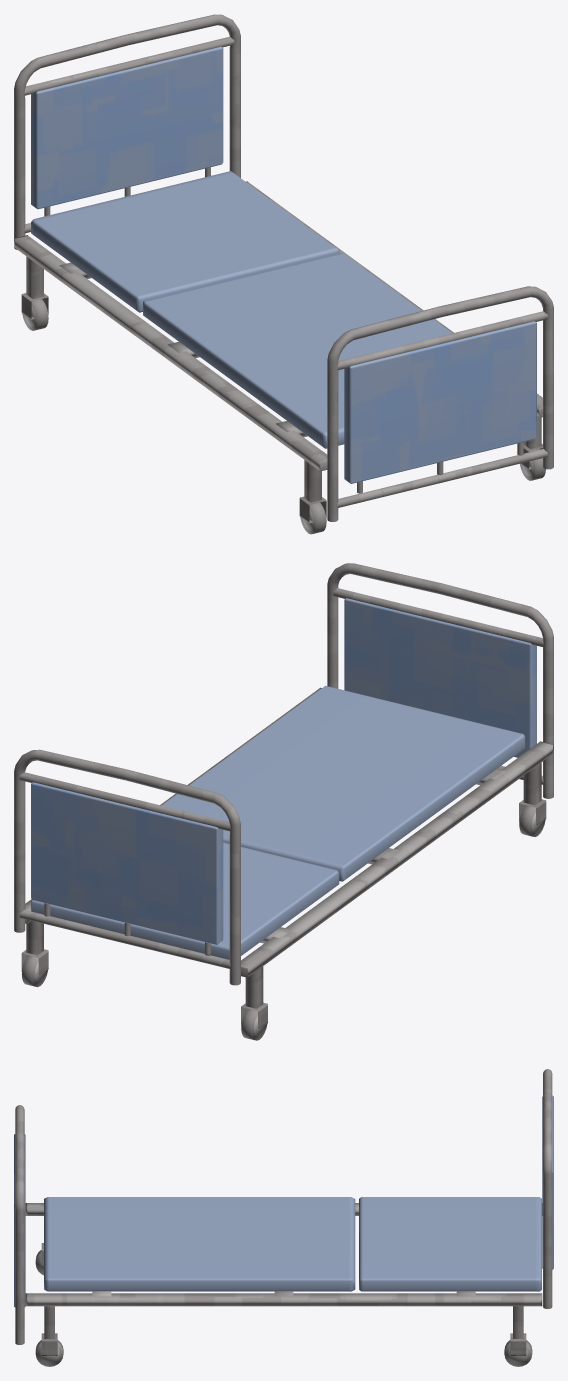
The model's file is Env_HospitalBed_03.fbx.
3 views of the same model, one above another, from view 1: azimuth 30°, elevation 25°; view 2: azimuth 150°, elevation 25°; view 3: azimuth 270°, elevation 25° (orthographic). The views are drawn at different scales.
Visible parts, largest first — view 1: Env_HospitalBed_03; view 2: Env_HospitalBed_03; view 3: Env_HospitalBed_03.
Boxes of the visible parts, x1,y1,x2,y2 form: Env_HospitalBed_03: (14,14,553,534); Env_HospitalBed_03: (14,563,553,1040); Env_HospitalBed_03: (14,1069,553,1366).
Bounding box in the file's own units: 88.52 × 90.71 × 207.
